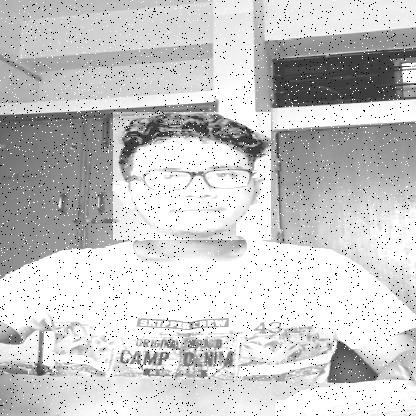Normal: (112, 112, 270, 240)
